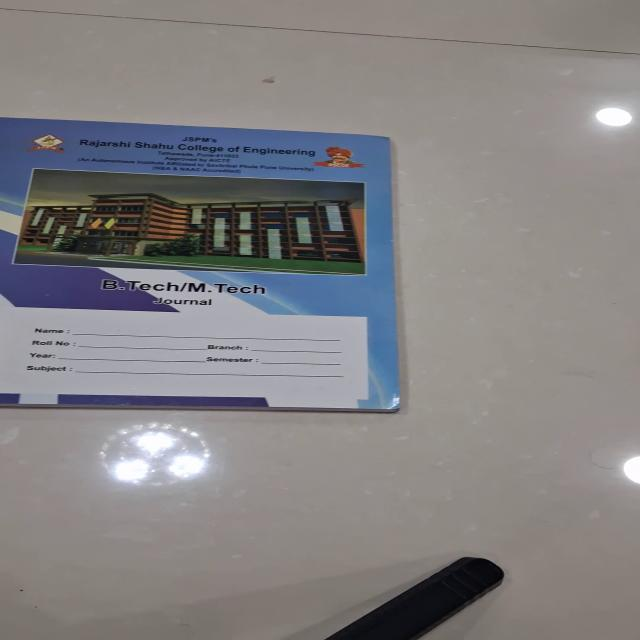paper: (1, 116, 401, 411)
